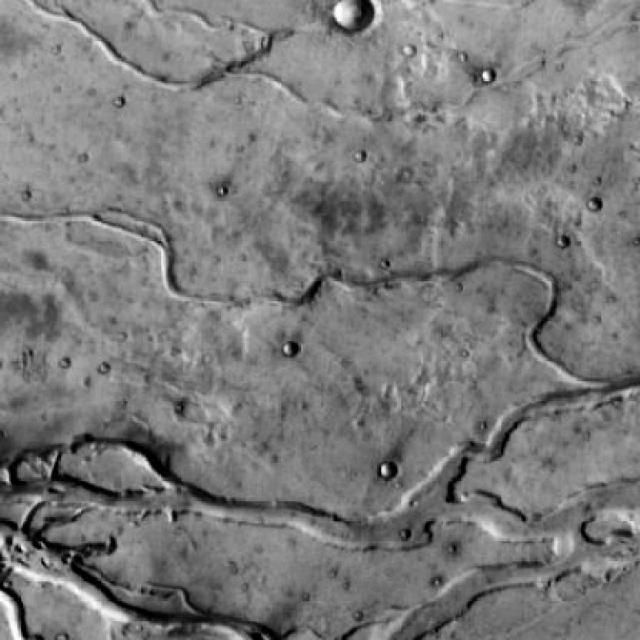crater: (333, 0, 376, 34), (378, 462, 397, 478)
